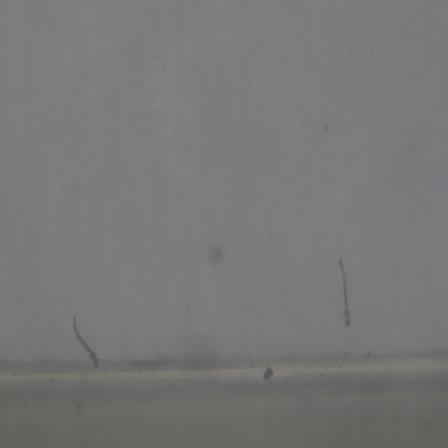Jentik-Nyamuk: (70, 314, 103, 371), (336, 253, 355, 329)
